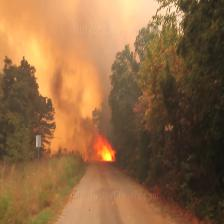fire: (89, 128, 123, 173)
smoke: (2, 1, 155, 122), (33, 41, 94, 176)
